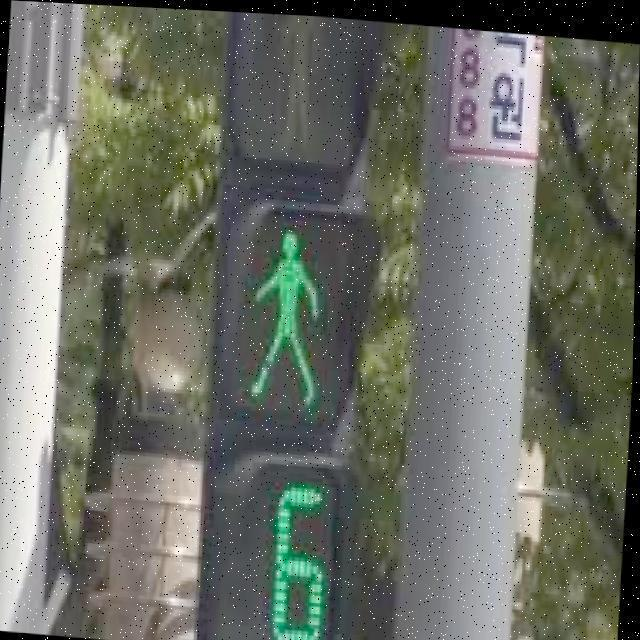greenlight: (230, 0, 371, 434)
